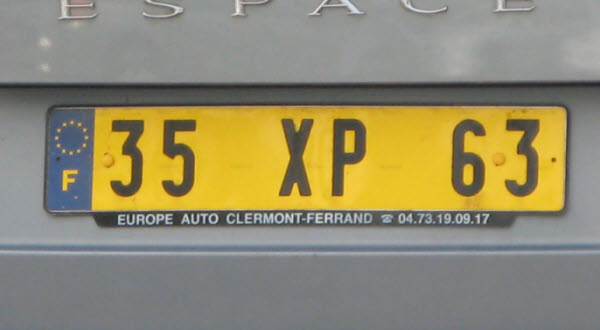license_plate: (43, 103, 568, 214)
